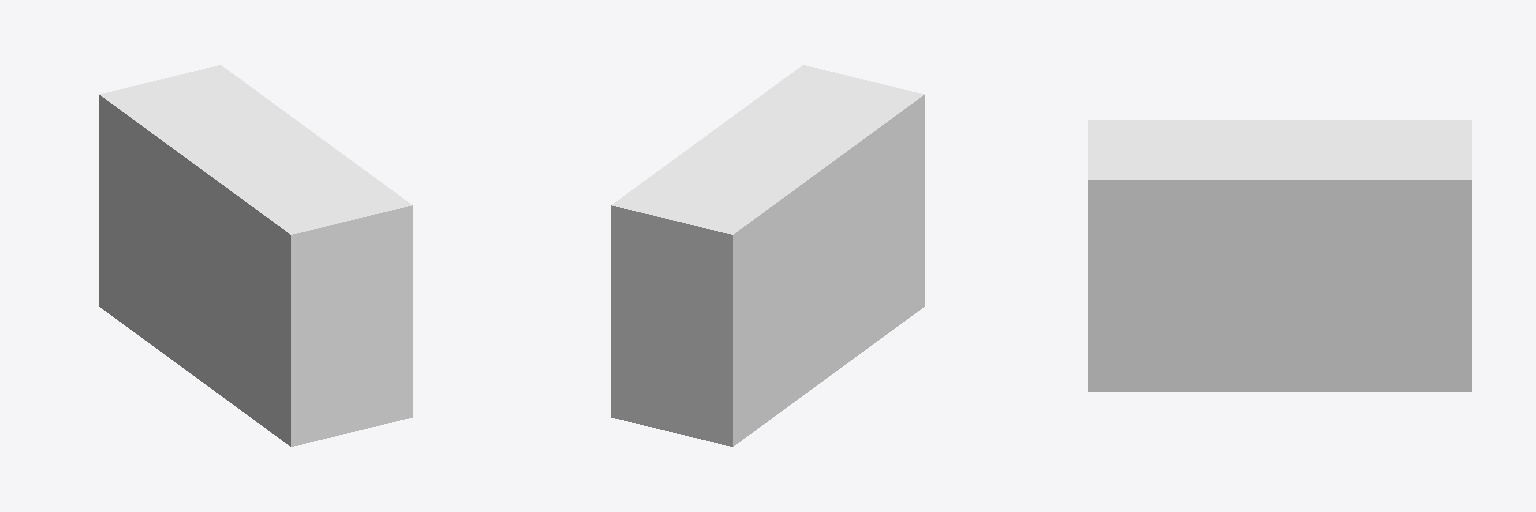
File: HealthKit1.obj
3 renders of one model, left to right at view 1: azimuth 30°, elevation 25°; view 2: azimuth 150°, elevation 25°; view 3: azimuth 270°, elevation 25°, orthographic.
Parts seen in each view (by area): view 1: object 1; view 2: object 1; view 3: object 1.
Boxes of the visible parts, x1=… form: object 1: x1=99, y1=65, x2=412, y2=446; object 1: x1=611, y1=65, x2=924, y2=446; object 1: x1=1088, y1=120, x2=1471, y2=391.
Size of the model in its own units: 1.5 by 2.5 by 4.1.